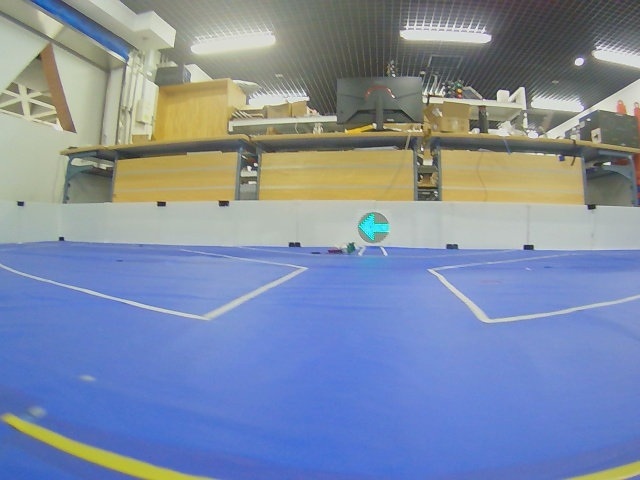left_green: (358, 212, 390, 243)
